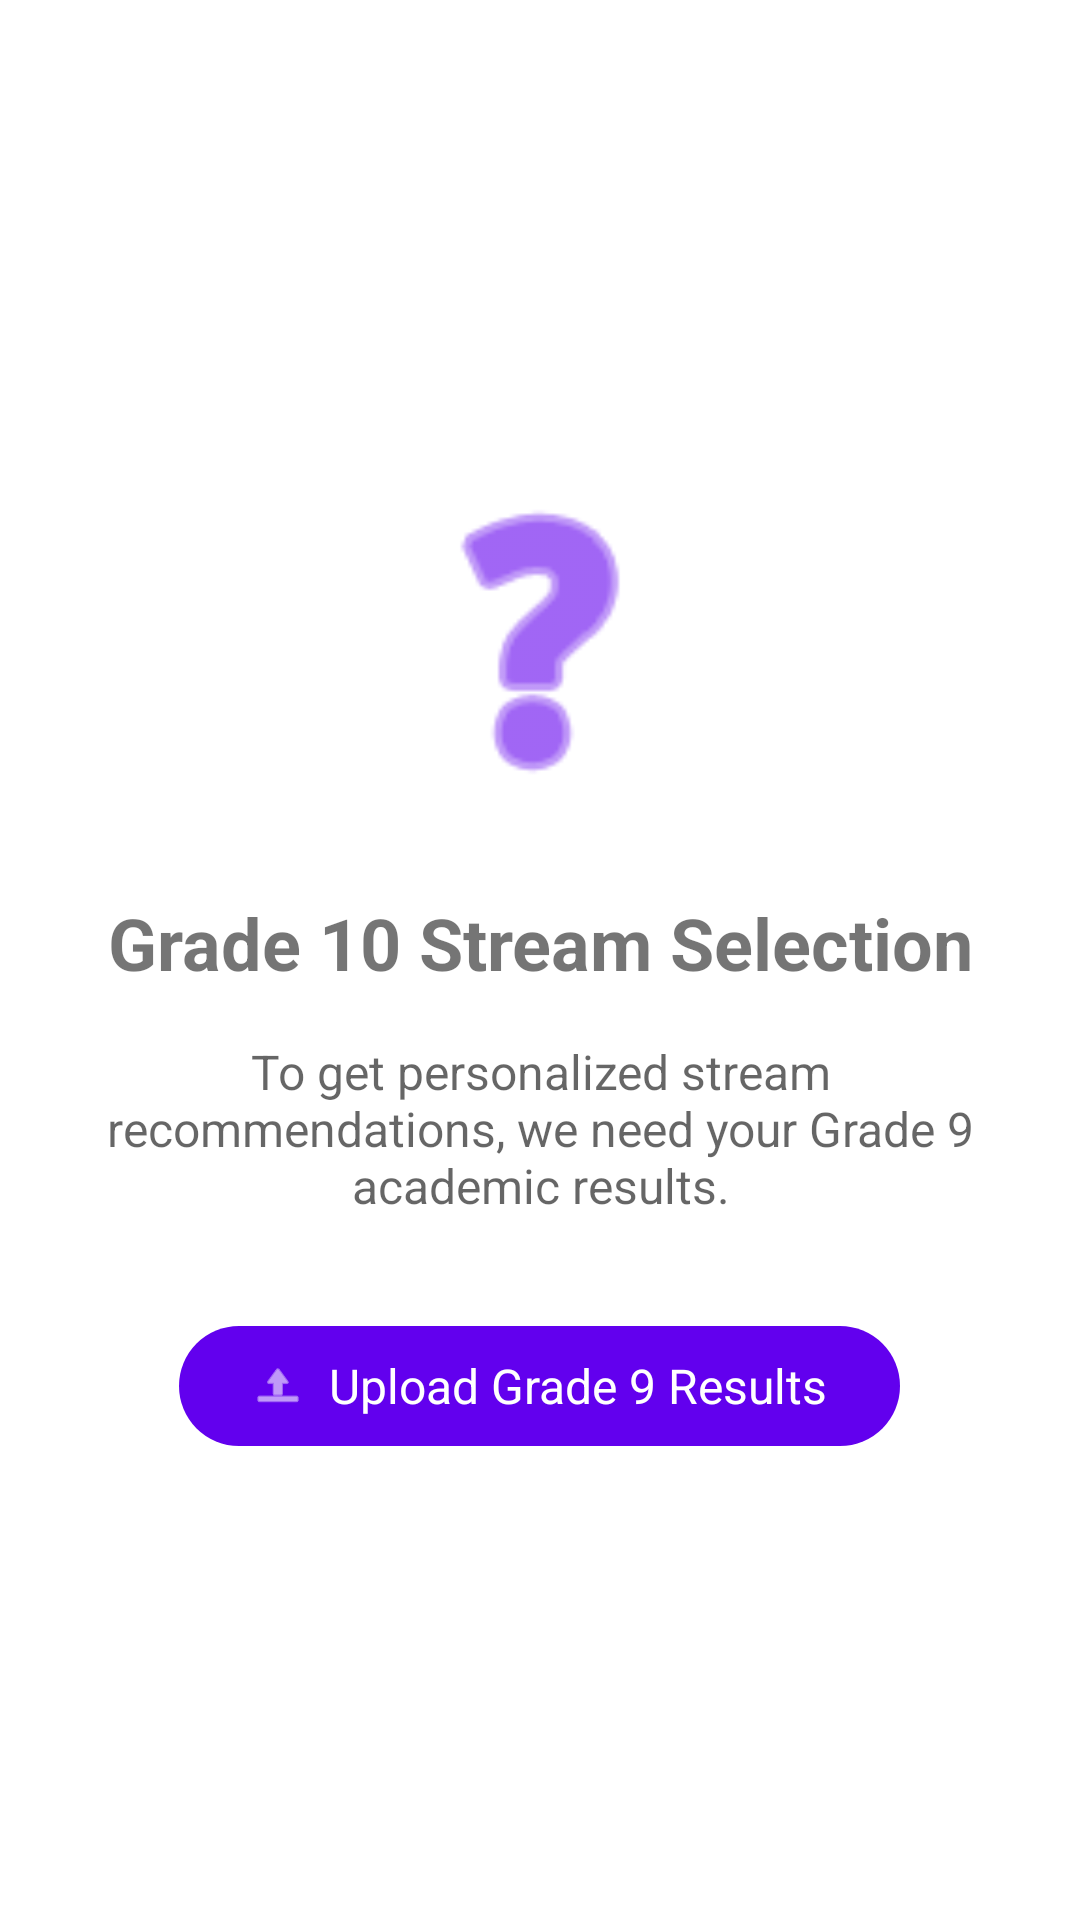

Where icons sit on this 1080x1920 app screen, as (x1, y1, x2, y2):
Help icon: (461, 513, 620, 771)
